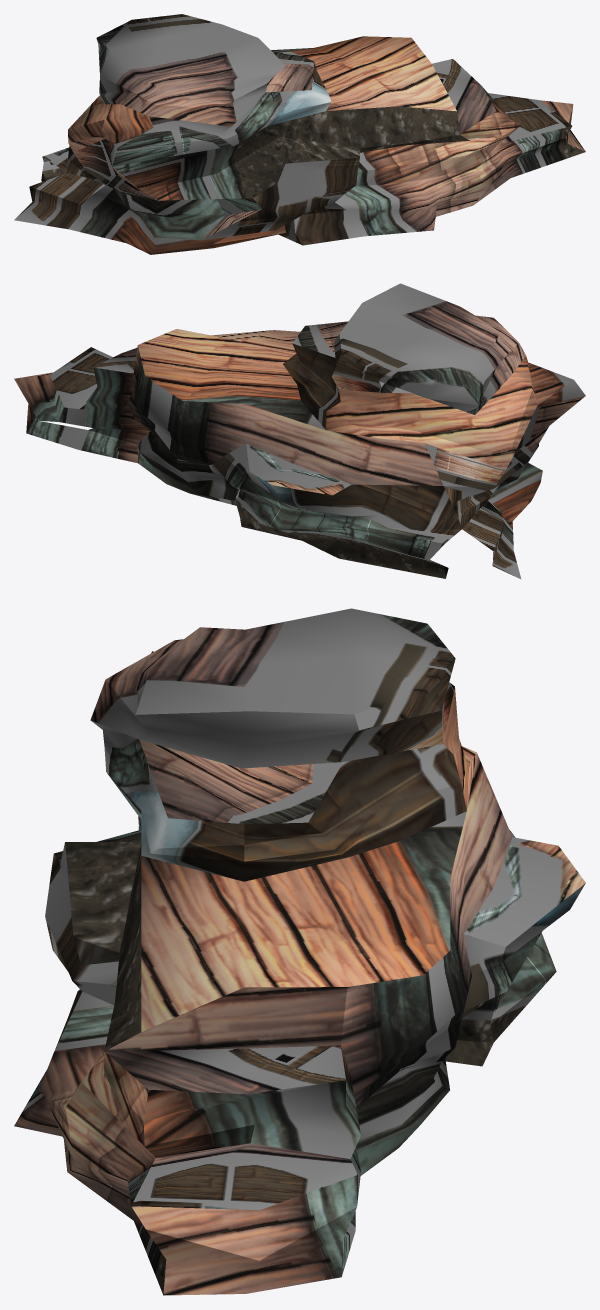
The model's file is rock02.FBX.
The picture shows the model from 3 angles, top to bottom: view 1: azimuth 30°, elevation 25°; view 2: azimuth 150°, elevation 25°; view 3: azimuth 270°, elevation 25°; orthographic projection. The views are drawn at different scales.
Parts seen in each view (by area): view 1: Box001; view 2: Box001; view 3: Box001.
Boxes of the visible parts, box(x1,y1,x2,y2) form: Box001: box(14, 14, 585, 254); Box001: box(14, 283, 585, 578); Box001: box(14, 608, 585, 1295).
Bounding box in the file's own units: 2720 × 875 × 1435.
